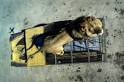lion: (34, 12, 105, 58)
